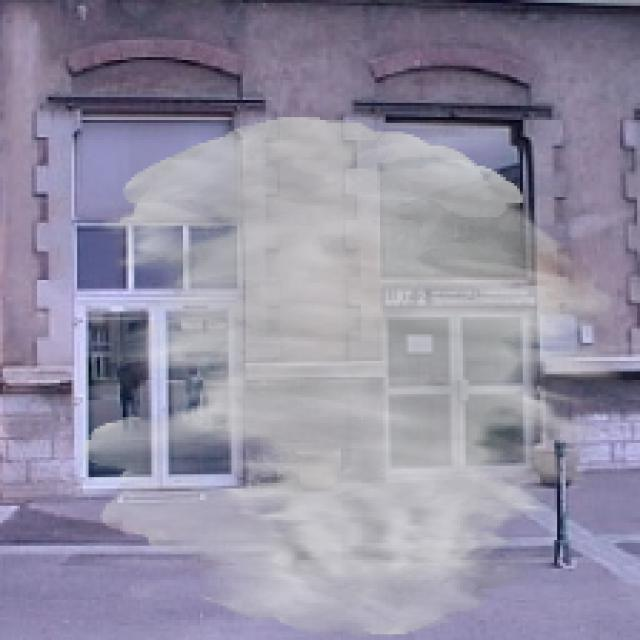smoke: (80, 117, 623, 637)
